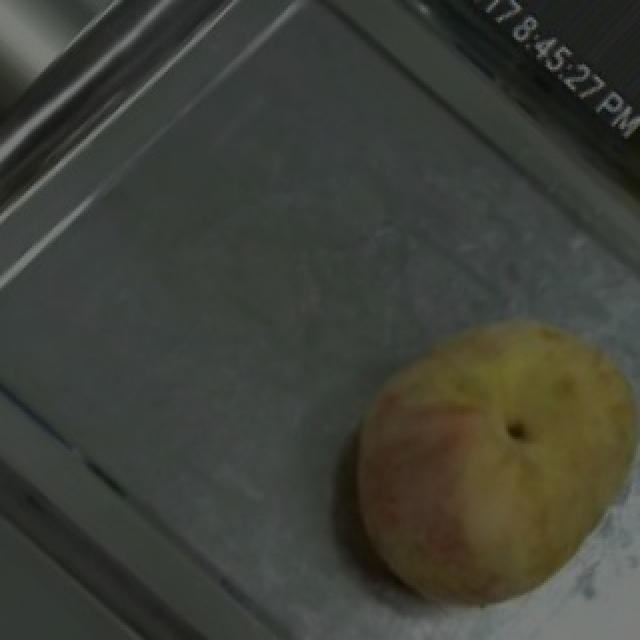Fruit: (300, 280, 626, 640)
